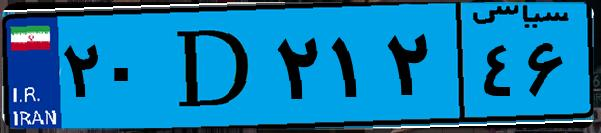0: (110, 28, 158, 98)
1: (330, 28, 385, 110)
2: (270, 28, 330, 110), (385, 28, 445, 110), (57, 26, 110, 100)
4: (475, 38, 525, 113)
6: (525, 38, 570, 115)
D: (158, 12, 270, 120)
